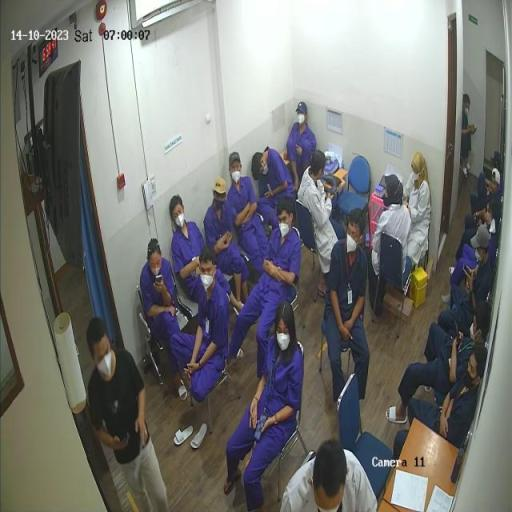person: (85, 318, 170, 512), (228, 289, 304, 492), (227, 195, 301, 377), (393, 309, 489, 436), (396, 345, 489, 461), (322, 210, 371, 410), (175, 248, 232, 407), (284, 440, 378, 512), (141, 237, 181, 401), (171, 196, 208, 358), (297, 152, 342, 279), (228, 153, 272, 275), (370, 176, 413, 297), (206, 177, 250, 292), (450, 225, 492, 308), (404, 153, 432, 271), (287, 99, 319, 198), (255, 149, 295, 220), (467, 168, 502, 224), (462, 95, 478, 178), (475, 203, 498, 238)
